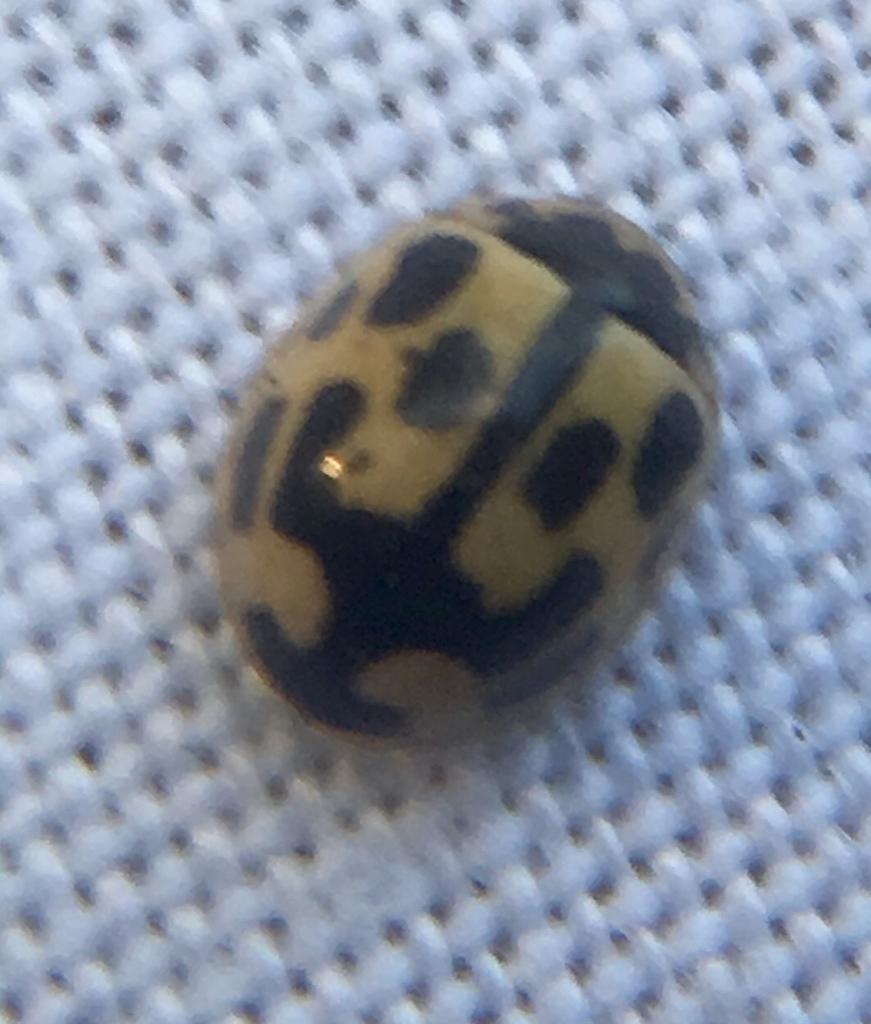ladybug: (209, 194, 726, 754)
